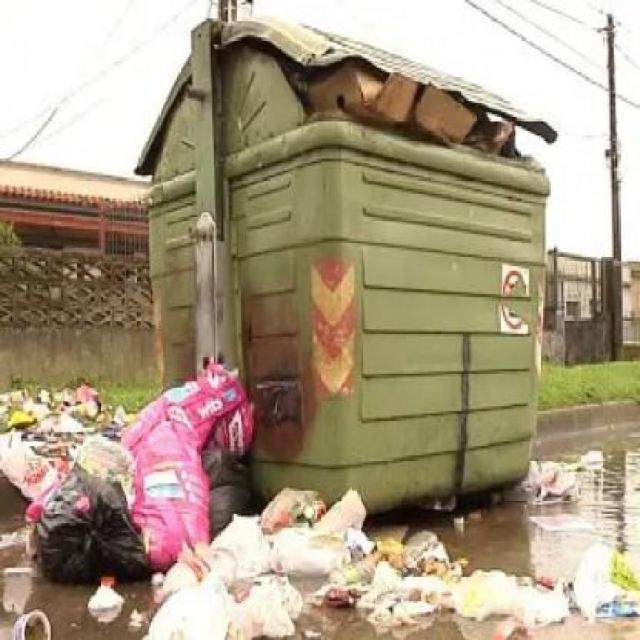garbage: (3, 388, 638, 638), (268, 31, 534, 164)
